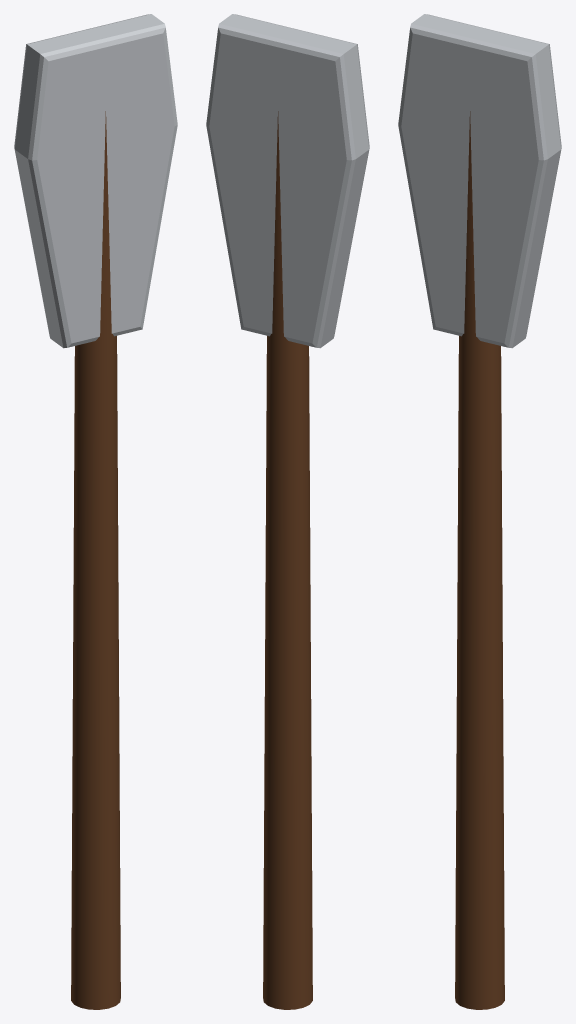
Rendered from iron_shovel.glb.
The picture shows the model from 3 angles, left to right: view 1: azimuth 30°, elevation 25°; view 2: azimuth 150°, elevation 25°; view 3: azimuth 330°, elevation 25°; orthographic projection.
Visible parts, largest first — view 1: blade, handle; view 2: blade, handle; view 3: blade, handle.
Boxes of the visible parts, bbox=[...] form: blade: bbox=[14, 14, 177, 348]; handle: bbox=[71, 111, 120, 1009]; blade: bbox=[206, 14, 369, 348]; handle: bbox=[263, 111, 312, 1009]; blade: bbox=[398, 14, 561, 348]; handle: bbox=[455, 111, 504, 1009].
Size of the model in its own units: 0.1301 by 0.805 by 0.038.
